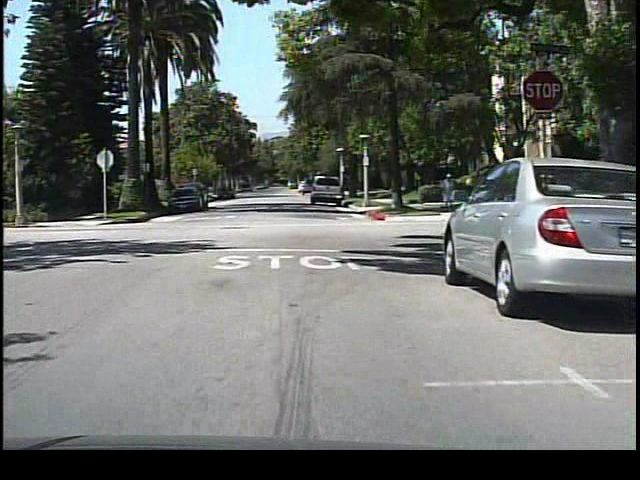person: (435, 167, 459, 214)
